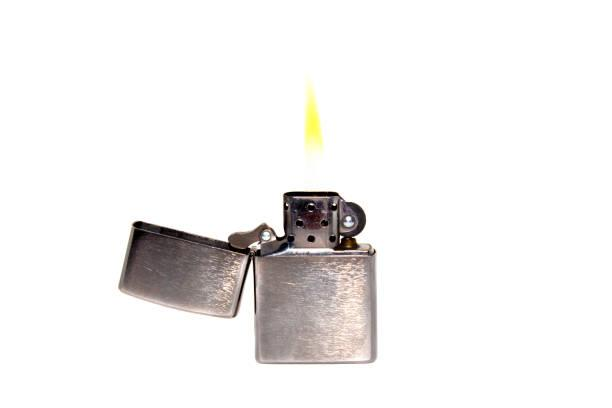Fire: (299, 77, 329, 167)
